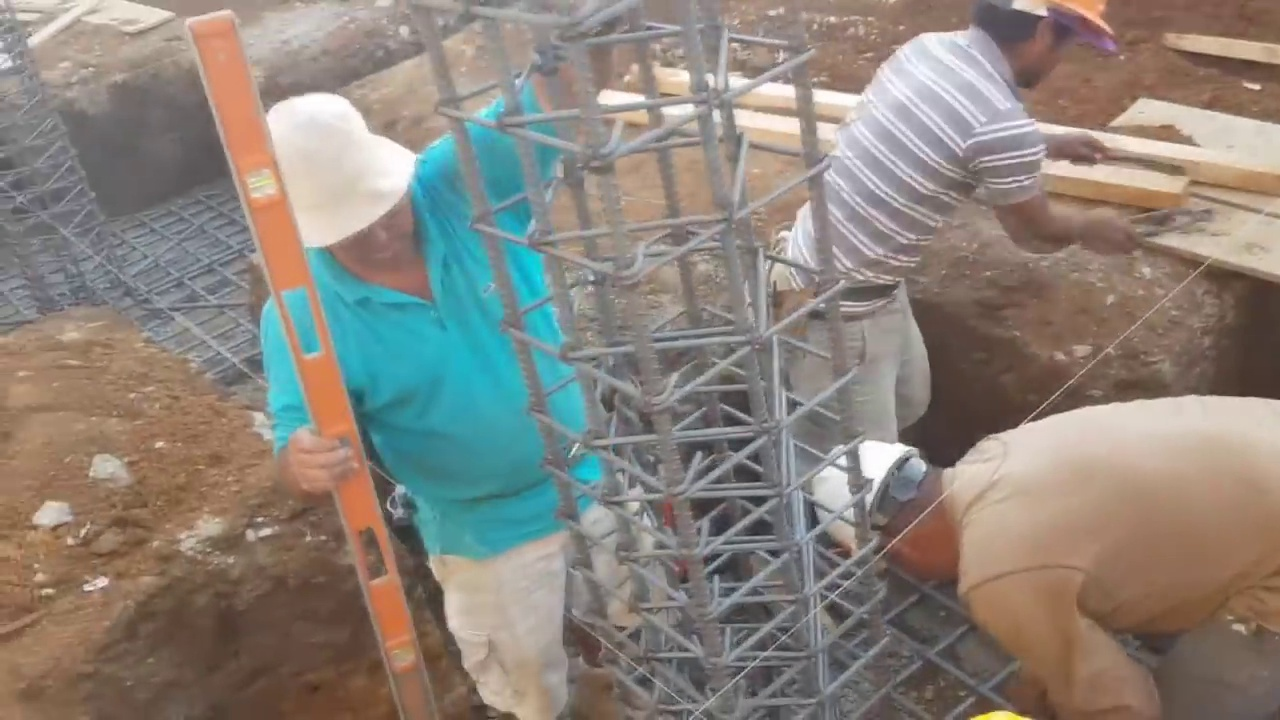helmet: (813, 436, 928, 565)
helmet-off: (252, 100, 436, 287), (969, 4, 1129, 88)
helmet-on: (813, 420, 974, 594)
person: (217, 62, 635, 701), (757, 0, 1150, 490), (810, 394, 1278, 718)
